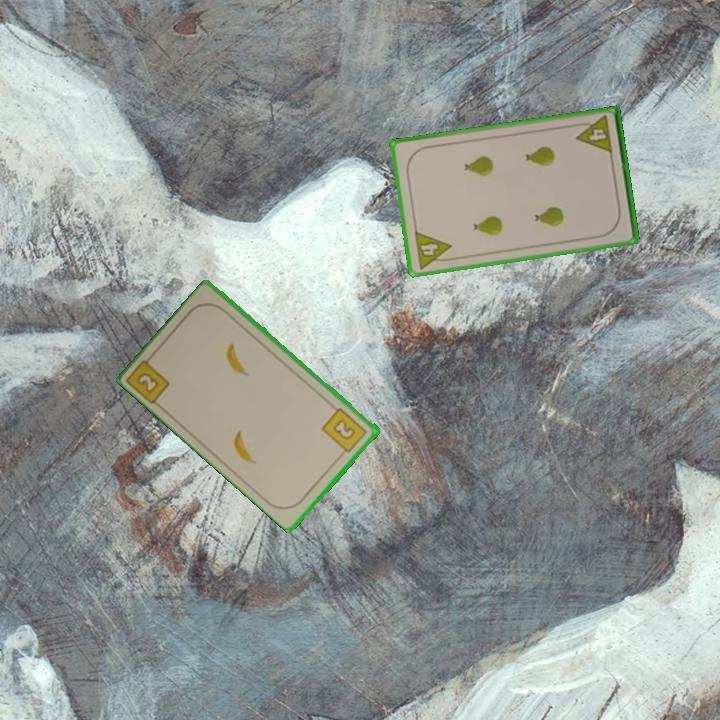2b: (318, 404, 370, 459), (125, 349, 173, 407)
4p: (411, 227, 456, 272), (572, 112, 615, 157)
